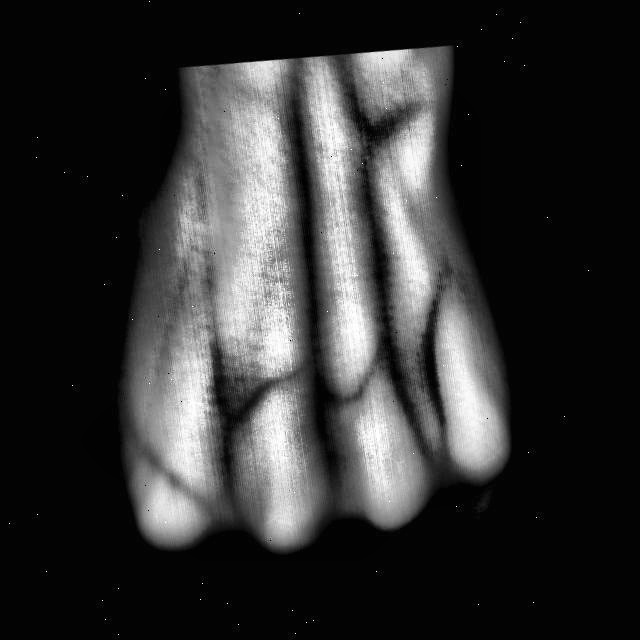Vein: (336, 97, 402, 334), (274, 101, 334, 345)
